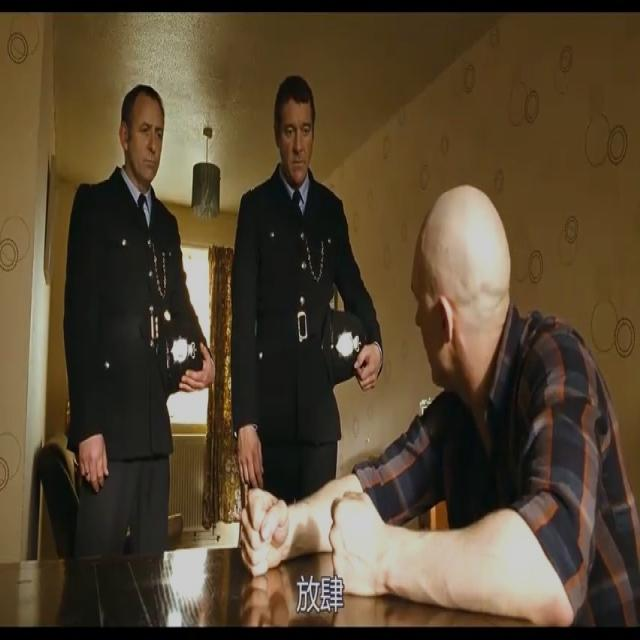non-fight: (219, 73, 618, 632), (61, 80, 211, 640), (231, 70, 386, 550)
